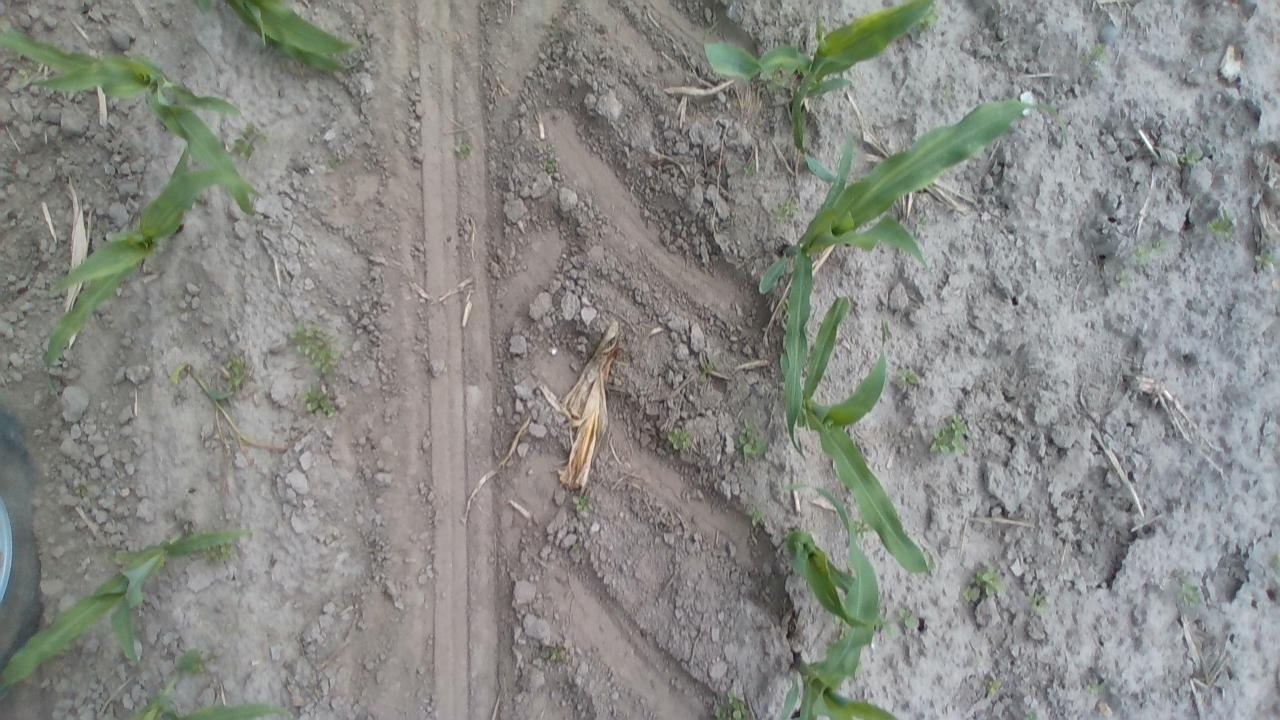Maize: (754, 90, 1060, 465), (34, 137, 246, 382), (2, 30, 262, 222), (780, 288, 936, 578), (0, 524, 259, 698), (692, 3, 938, 181), (775, 490, 889, 720), (190, 0, 366, 75), (131, 648, 300, 719), (783, 526, 876, 630), (168, 362, 250, 461)
Weeds: (284, 320, 347, 378), (961, 561, 1008, 607), (927, 412, 970, 458), (228, 119, 270, 161), (1172, 569, 1208, 613), (300, 382, 342, 419), (734, 420, 770, 461), (708, 687, 753, 719), (220, 357, 252, 395), (1206, 208, 1238, 246), (772, 190, 802, 229), (1135, 236, 1169, 264), (895, 604, 922, 638), (1082, 40, 1106, 77), (666, 424, 696, 452), (204, 543, 236, 568), (696, 357, 722, 386), (1178, 143, 1202, 171), (914, 10, 942, 34), (898, 366, 924, 391), (571, 490, 594, 518), (981, 674, 1007, 698), (746, 505, 768, 532), (1253, 246, 1276, 271), (760, 72, 788, 92), (1083, 677, 1109, 698), (542, 642, 564, 666), (1028, 592, 1052, 614), (853, 516, 874, 540), (1113, 269, 1133, 294), (454, 134, 474, 158), (912, 209, 932, 232), (540, 148, 556, 176), (102, 548, 123, 566), (940, 82, 956, 105), (741, 161, 760, 180), (324, 150, 344, 168), (1021, 708, 1042, 720)
